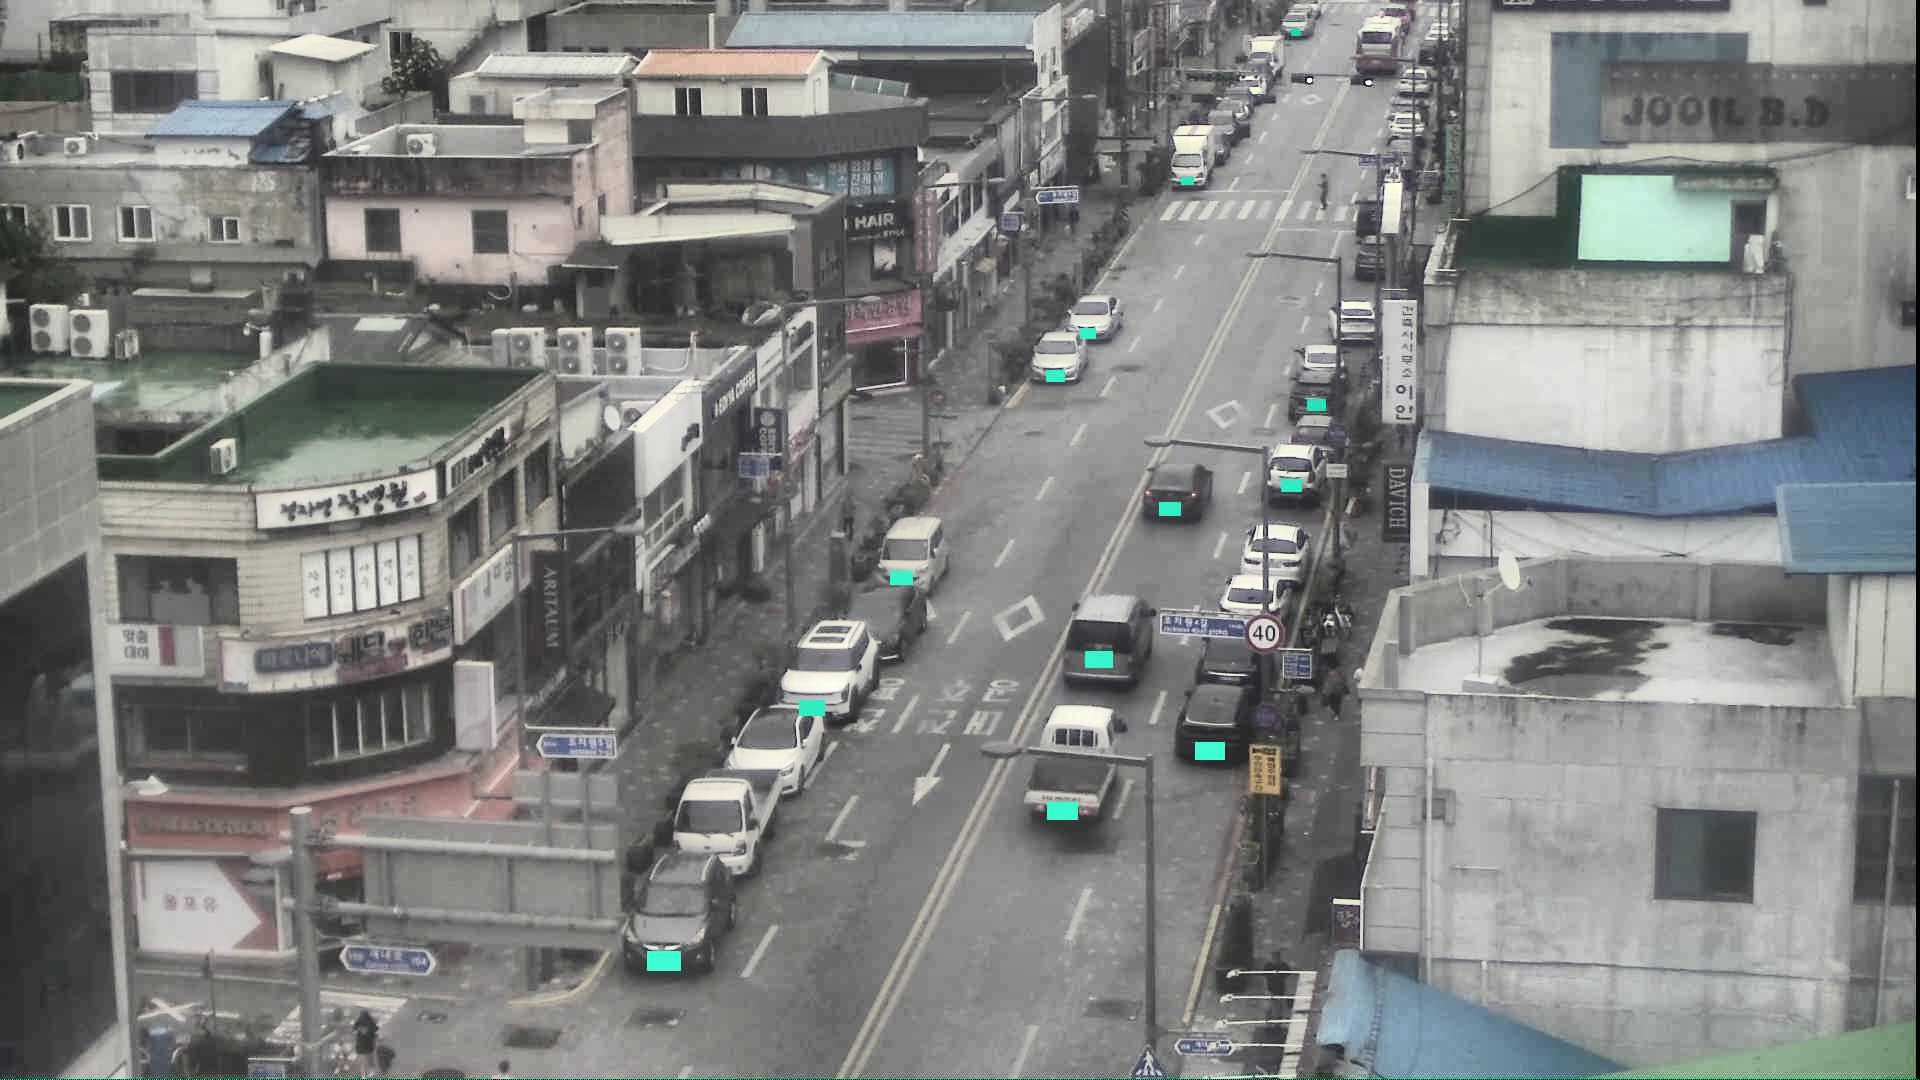crosswalk: (1317, 173, 1332, 210)
jaywalk: (351, 1011, 386, 1080)
sidewalk: (1265, 952, 1291, 1031), (1323, 665, 1349, 720), (837, 495, 855, 545), (1065, 200, 1083, 240)
